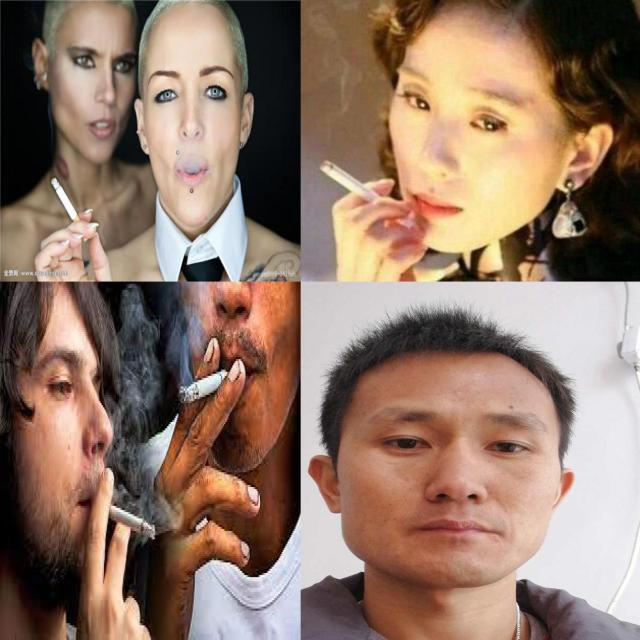smoking: (318, 158, 408, 224), (51, 176, 88, 243), (98, 500, 156, 540), (179, 368, 228, 404)
